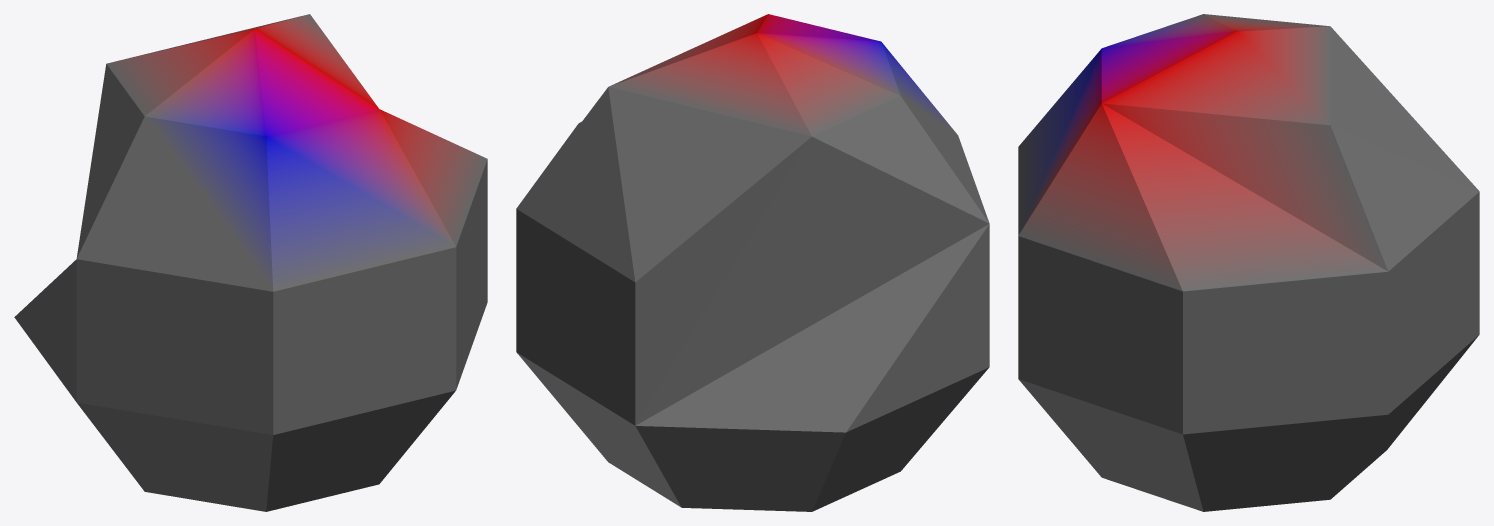
The model's file is before_retriangulation_3.obj.
3 renders of one model, left to right at view 1: azimuth 30°, elevation 25°; view 2: azimuth 150°, elevation 25°; view 3: azimuth 270°, elevation 25°, orthographic.
Bounding box in the file's own units: 1.85 × 2 × 1.81.
